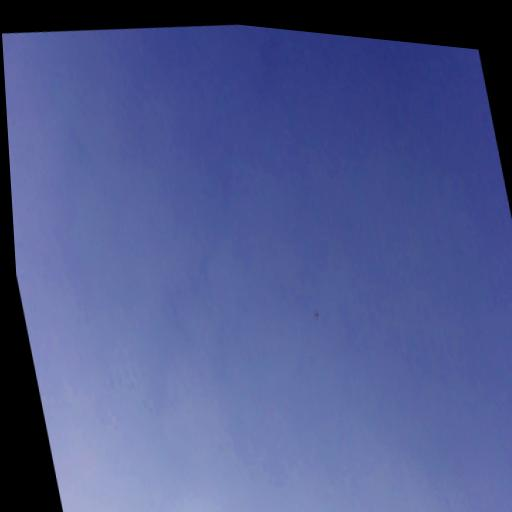drones: (312, 308, 321, 323)
